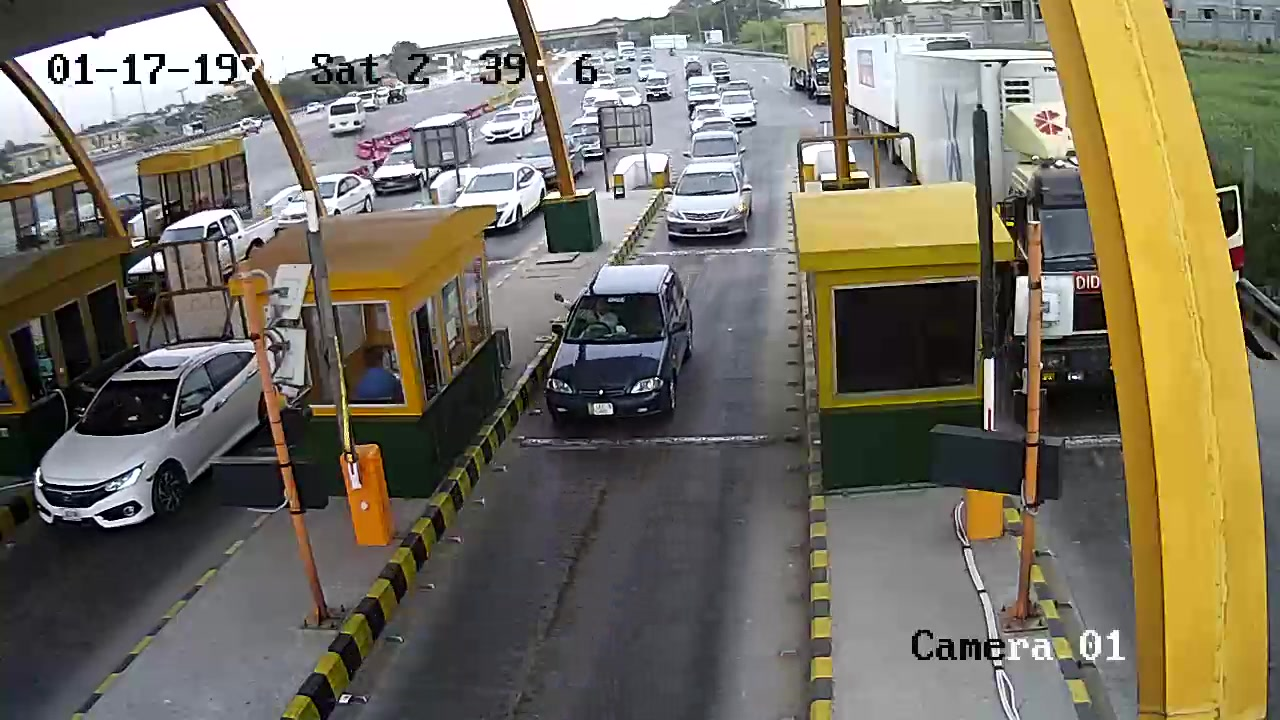F1: (528, 262, 716, 436)
